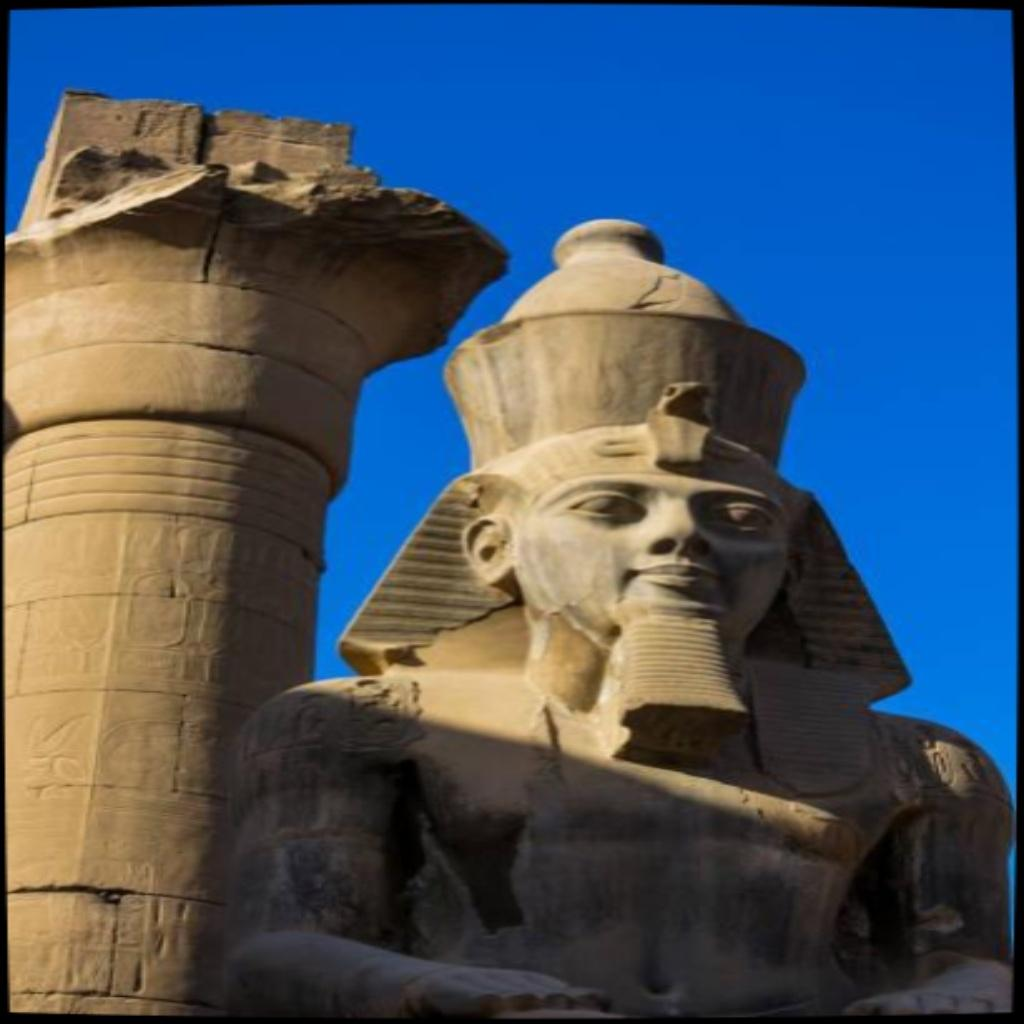Statue of King Ramses II Luxor Temple: (211, 216, 1014, 1016)
